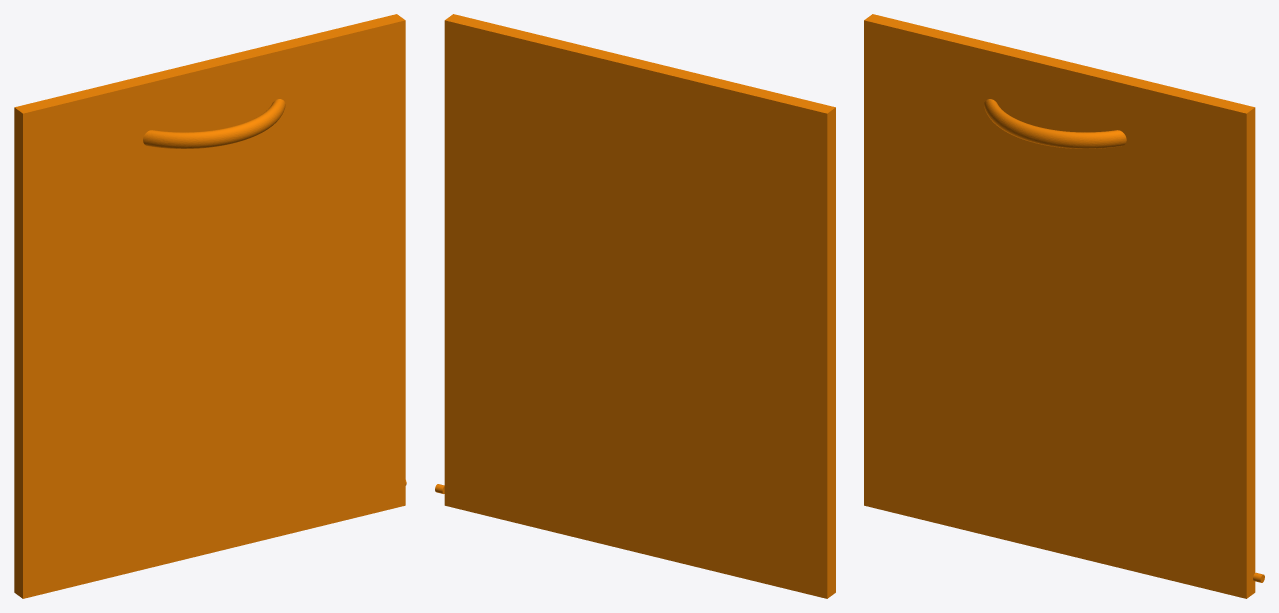
The model's file is dishwasher.dae.
The picture shows the model from 3 angles, left to right: view 1: azimuth 30°, elevation 25°; view 2: azimuth 150°, elevation 25°; view 3: azimuth 330°, elevation 25°; orthographic projection.
Parts seen in each view (by area): view 1: node0; view 2: node0; view 3: node0.
Part boxes in pixels (bbox=[...]): node0: bbox=[14, 14, 406, 598]; node0: bbox=[435, 14, 835, 598]; node0: bbox=[864, 14, 1264, 598].
Bounding box in the file's own units: 0.3302 × 0.0463 × 0.3926.
